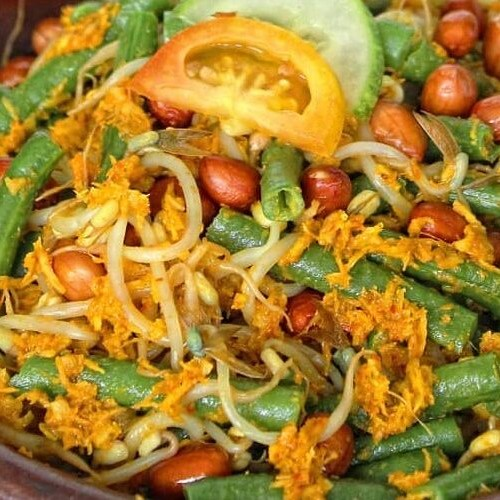jukut urap: (27, 31, 481, 481)
